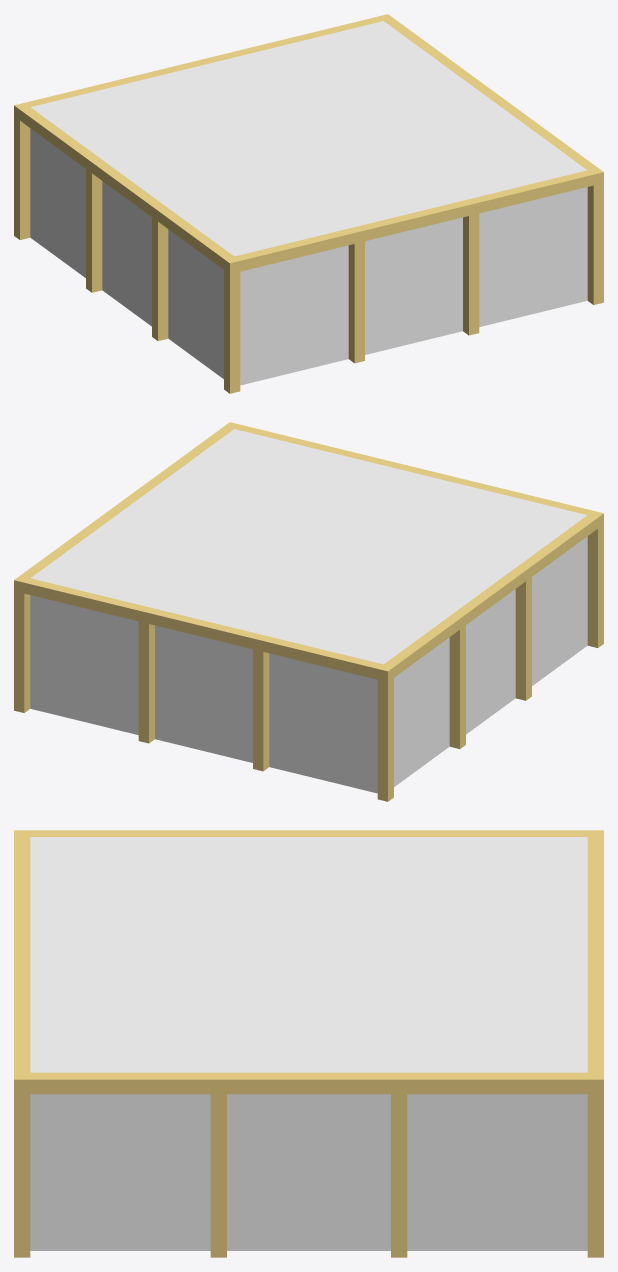
Rendered from building_middle.obj.
The picture shows the model from 3 angles, top to bottom: view 1: azimuth 30°, elevation 25°; view 2: azimuth 150°, elevation 25°; view 3: azimuth 270°, elevation 25°; orthographic projection. The views are drawn at different scales.
Bounding box in the file's own units: 3.6 × 1.2 × 3.6.
Materials: 1 (1 with a texture image).
